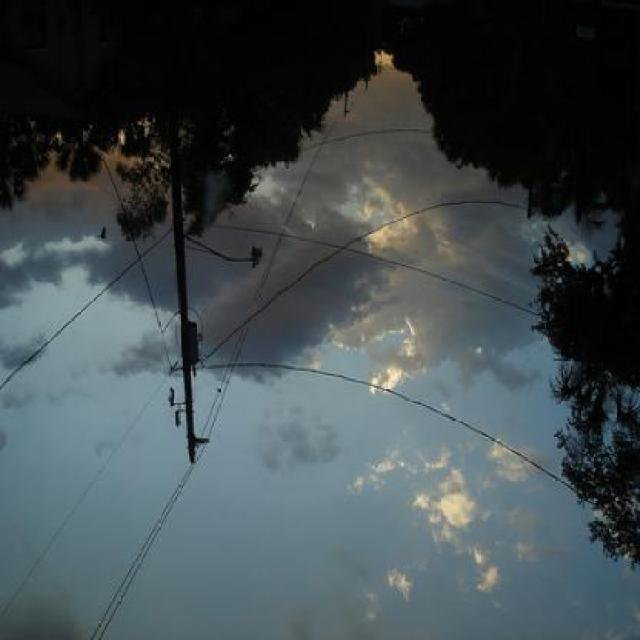pole: (141, 50, 210, 488)
